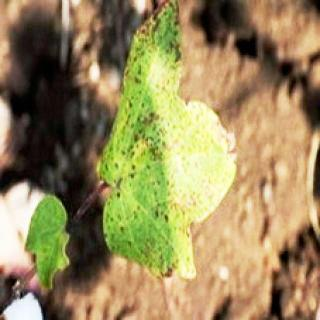leaf spot: (89, 4, 239, 286)
